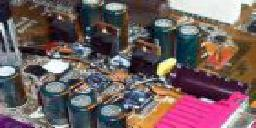Electrolytic-Capacitor: (38, 80, 68, 128), (104, 1, 131, 48), (65, 93, 97, 128), (150, 17, 178, 55), (176, 24, 201, 65), (97, 103, 128, 128)
